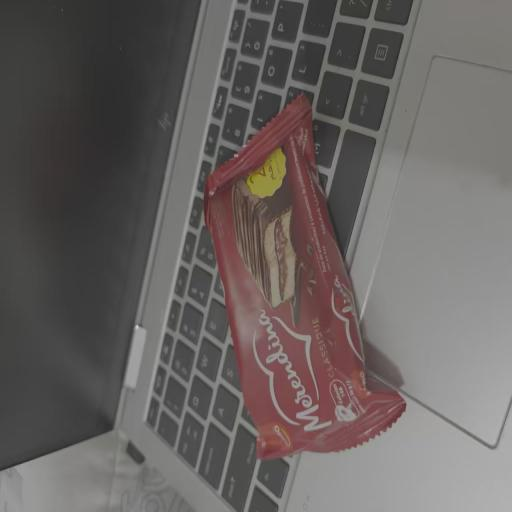merendina: (191, 88, 429, 473)
